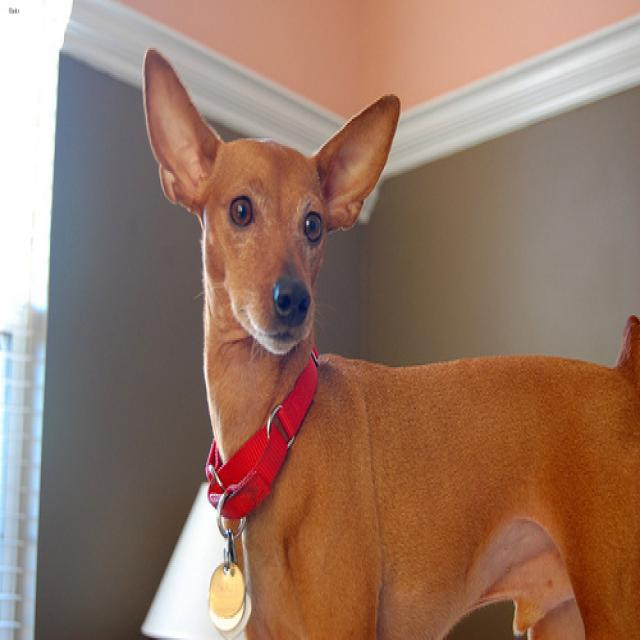dog-miniature_pinscher: (136, 44, 637, 636)
